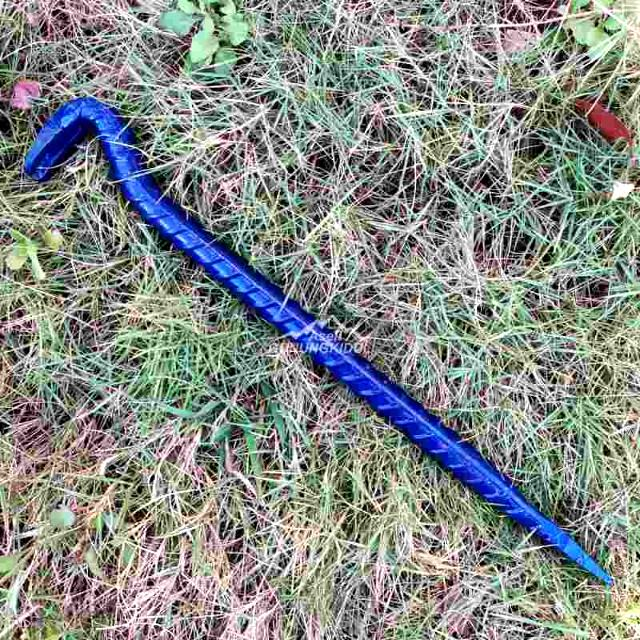crow bar: (23, 95, 607, 587)
